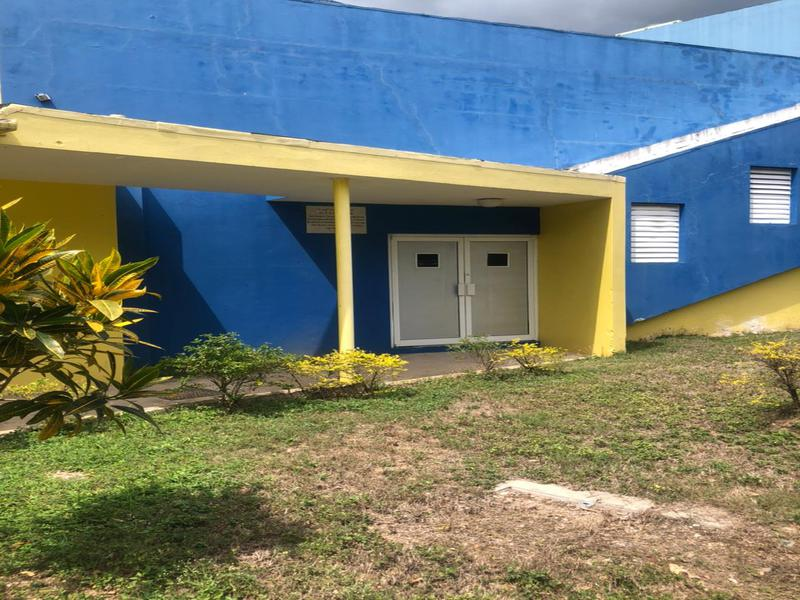slt2_door: (383, 226, 544, 350)
